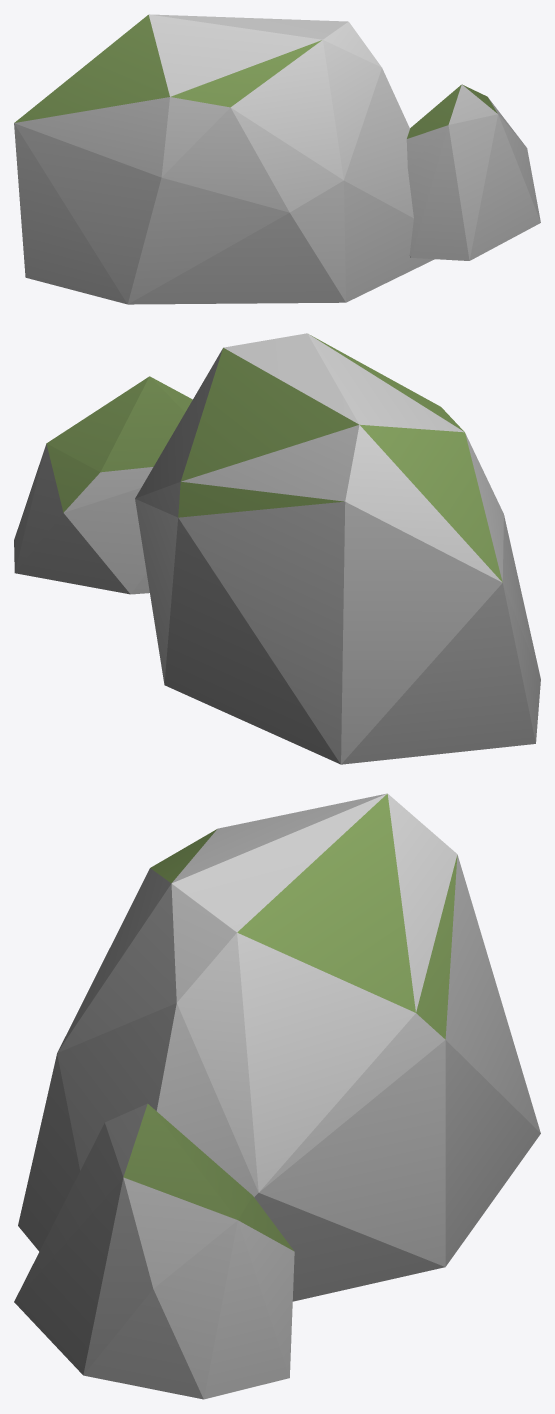
The model's file is rk_boulder_1.glb.
3 views of the same model, one above another, from view 1: azimuth 30°, elevation 25°; view 2: azimuth 150°, elevation 25°; view 3: azimuth 270°, elevation 25° (orthographic). The views are drawn at different scales.
Parts seen in each view (by area): view 1: rk_boulder_1; view 2: rk_boulder_1; view 3: rk_boulder_1.
Part boxes in pixels (bbox=[...]): rk_boulder_1: bbox=[14, 14, 540, 304]; rk_boulder_1: bbox=[14, 333, 540, 764]; rk_boulder_1: bbox=[14, 793, 540, 1399].
Size of the model in its own units: 27.32 by 12.79 by 16.69.
